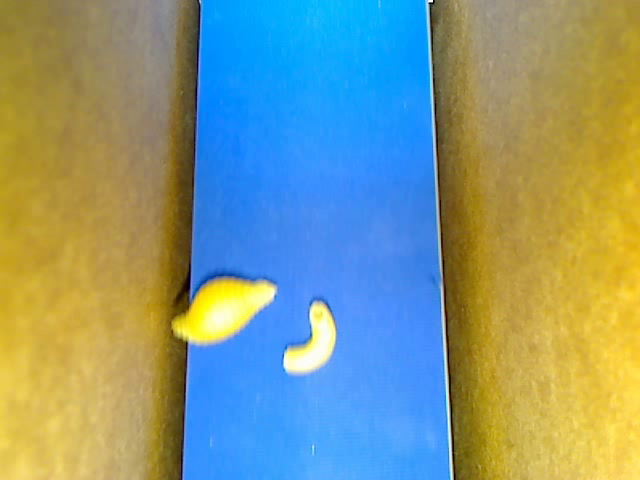elbow: (282, 299, 336, 373)
shell: (171, 276, 278, 348)
